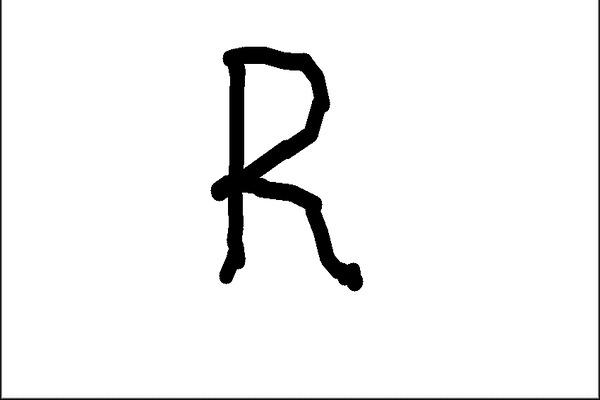R: (209, 43, 375, 297)
